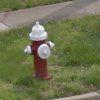Hydrant: (21, 15, 57, 85)
